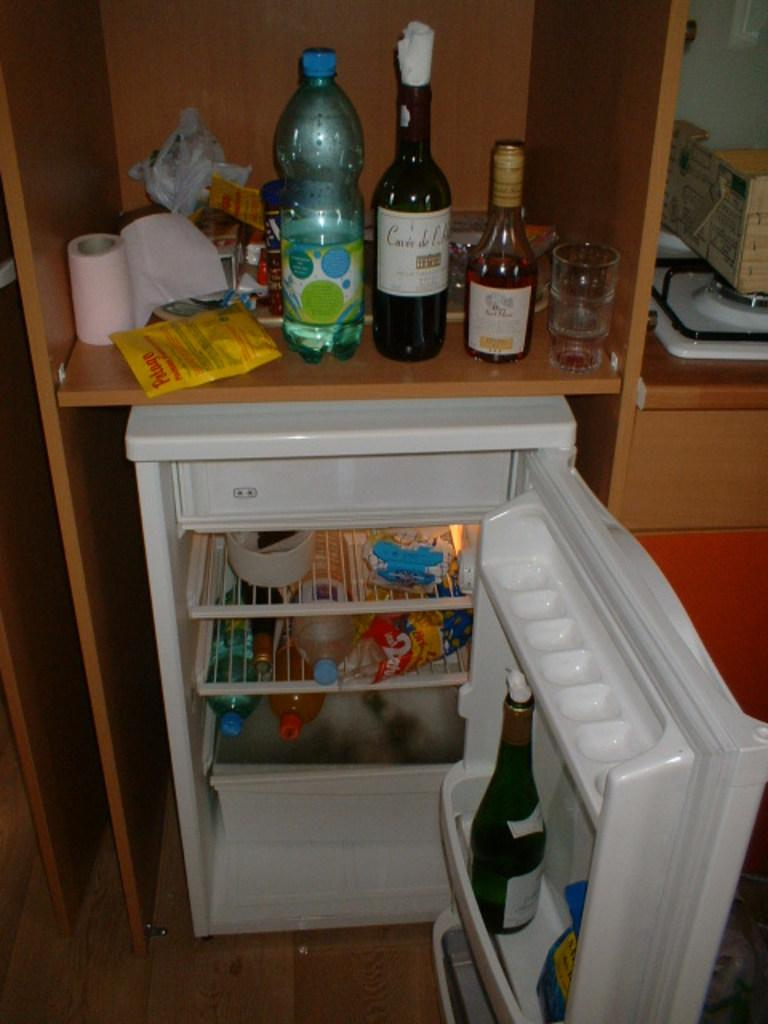cabinet_door: (632, 420, 768, 524)
